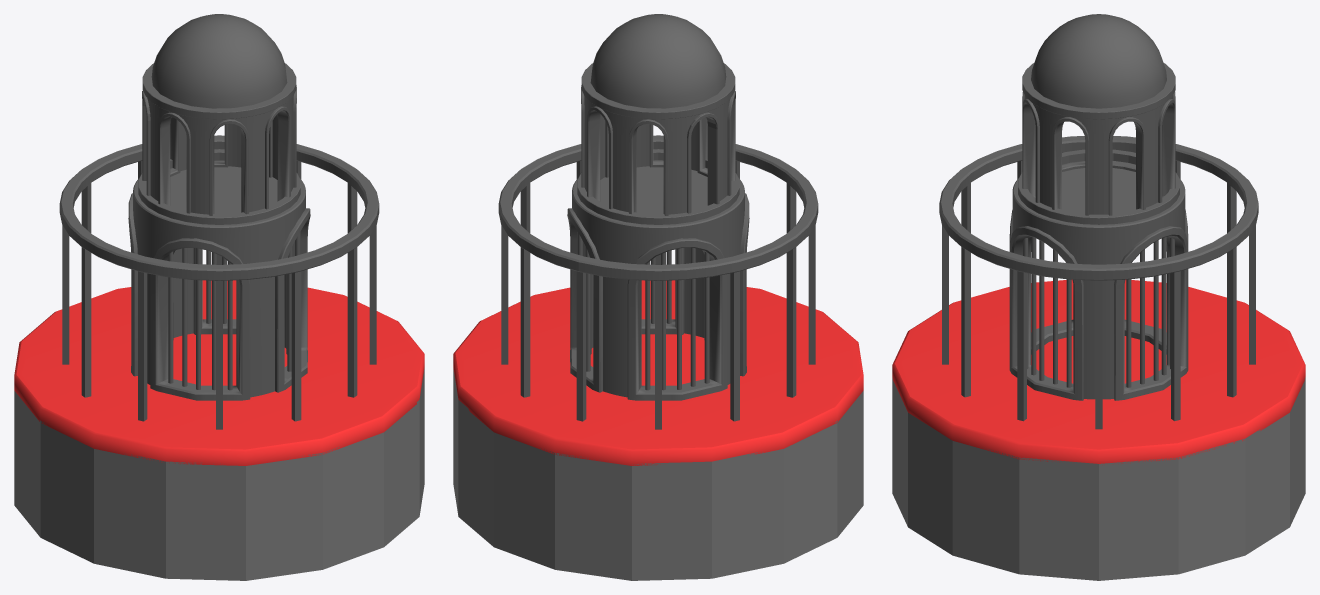
Rendered from Tower_test.fbx.
3 views of the same model, side by side, from view 1: azimuth 30°, elevation 25°; view 2: azimuth 150°, elevation 25°; view 3: azimuth 270°, elevation 25° (orthographic).
Visible parts, largest first — view 1: Object010, Object013, pCube7, polySurface11, pCylinder1, pCube12, pCylinder23, pCylinder22, pDisc2, pCube13, pCube22, pCube14 (+9 smaller); view 2: Object010, Object013, pCube7, polySurface11, pCylinder1, pCube12, pCylinder23, pCylinder22, pDisc2, pCube19, pCube22, pCube18 (+9 smaller); view 3: Object010, Object013, pCube7, polySurface11, pCylinder1, pCube12, pCylinder22, pCylinder23, pDisc2, pCube17, pCube15, pCube14 (+12 smaller).
Part boxes in pixels (<box>): Object010: <box>14,368,424,580</box>; Object013: <box>14,280,424,465</box>; pCube7: <box>128,178,310,400</box>; polySurface11: <box>142,85,296,215</box>; pCylinder1: <box>151,14,287,108</box>; pCube12: <box>59,135,379,280</box>; pCylinder23: <box>142,63,296,119</box>; pCylinder22: <box>138,149,300,224</box>; pDisc2: <box>170,166,277,214</box>; pCube13: <box>291,271,301,421</box>; pCube22: <box>81,247,91,397</box>; pCube14: <box>347,247,357,397</box>; Object010: <box>453,368,863,580</box>; Object013: <box>453,280,863,465</box>; pCube7: <box>567,178,749,400</box>; polySurface11: <box>581,85,735,215</box>; pCylinder1: <box>590,14,726,108</box>; pCube12: <box>498,135,818,280</box>; pCylinder23: <box>581,63,735,119</box>; pCylinder22: <box>577,149,739,224</box>; pDisc2: <box>600,166,707,214</box>; pCube19: <box>576,271,586,421</box>; pCube22: <box>786,247,796,397</box>; pCube18: <box>520,247,530,397</box>; Object010: <box>892,377,1305,580</box>; Object013: <box>892,279,1305,465</box>; pCube7: <box>1009,178,1188,400</box>; polySurface11: <box>1022,91,1175,215</box>; pCylinder1: <box>1031,14,1166,108</box>; pCube12: <box>939,136,1258,280</box>; pCylinder22: <box>1018,149,1179,224</box>; pCylinder23: <box>1022,63,1175,119</box>; pDisc2: <box>1062,168,1135,213</box>; pCube17: <box>1171,271,1180,421</box>; pCube15: <box>1017,271,1026,421</box>; pCube14: <box>961,247,970,397</box>.
Size of the model in its own units: 9.34 by 11.82 by 9.35.
